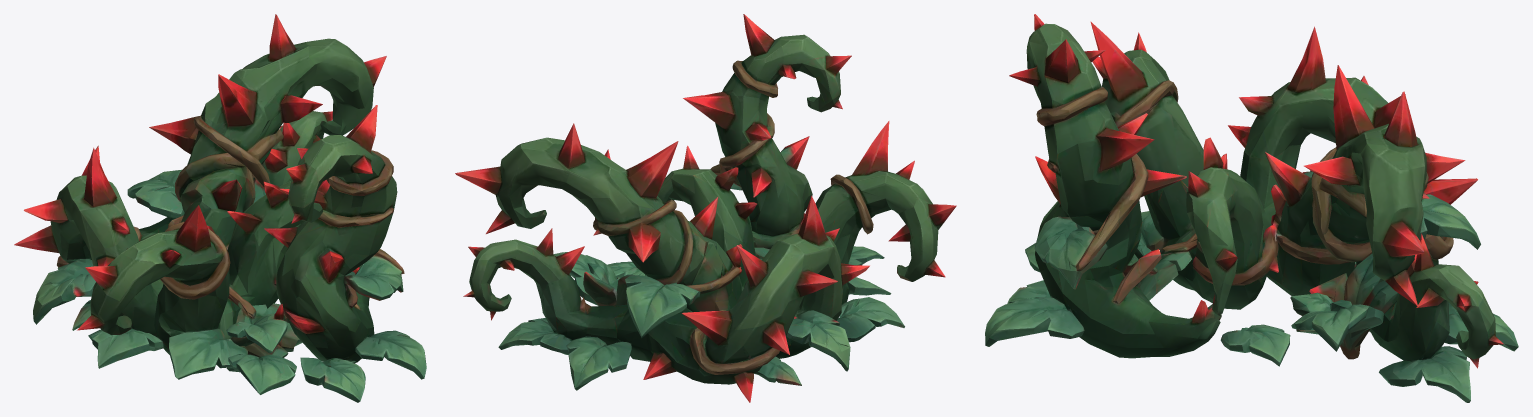
File: prop_thornweed.glb
The picture shows the model from 3 angles, left to right: view 1: azimuth 30°, elevation 25°; view 2: azimuth 150°, elevation 25°; view 3: azimuth 270°, elevation 25°; orthographic projection. The views are drawn at different scales.
Visible parts, largest first — view 1: output_unwrapped; view 2: output_unwrapped; view 3: output_unwrapped.
Boxes of the visible parts, x1=… form: output_unwrapped: x1=14, y1=14, x2=426, y2=402; output_unwrapped: x1=455, y1=14, x2=956, y2=402; output_unwrapped: x1=985, y1=14, x2=1518, y2=402.
Bounding box in the file's own units: 1.88 × 1.15 × 1.74.
1 material, 1 textured.
